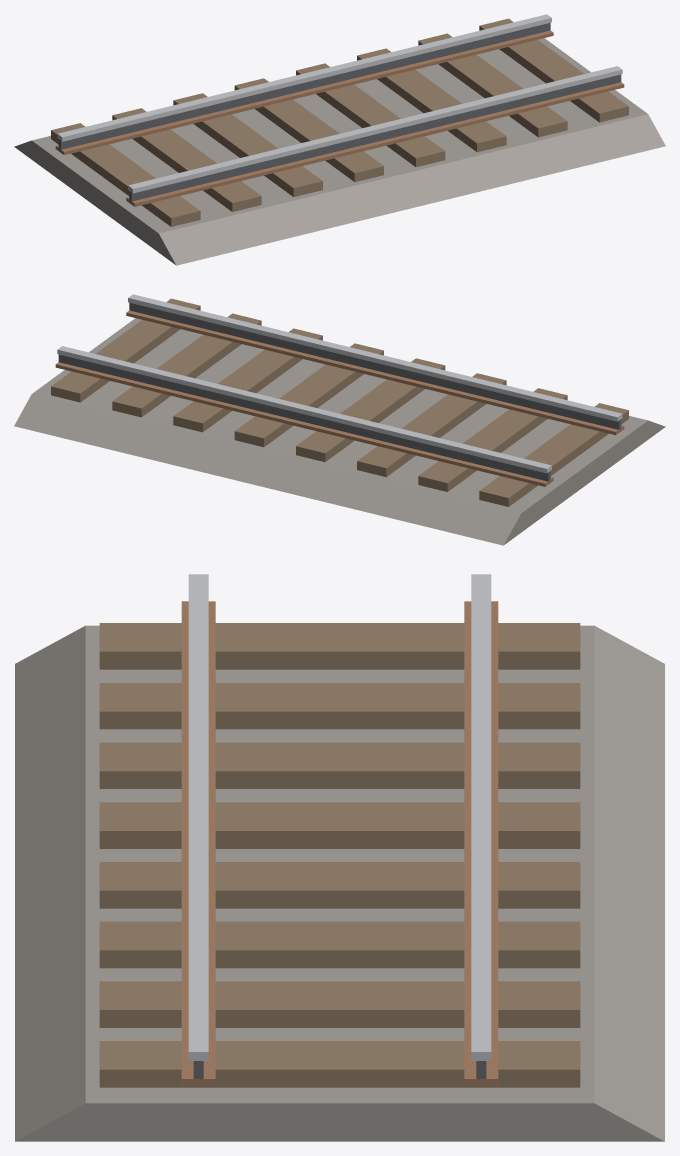
File: rail_track_straight.glb
The picture shows the model from 3 angles, top to bottom: view 1: azimuth 30°, elevation 25°; view 2: azimuth 150°, elevation 25°; view 3: azimuth 270°, elevation 25°; orthographic projection. The views are drawn at different scales.
Size of the model in its own units: 4 by 0.35 by 2.3.
